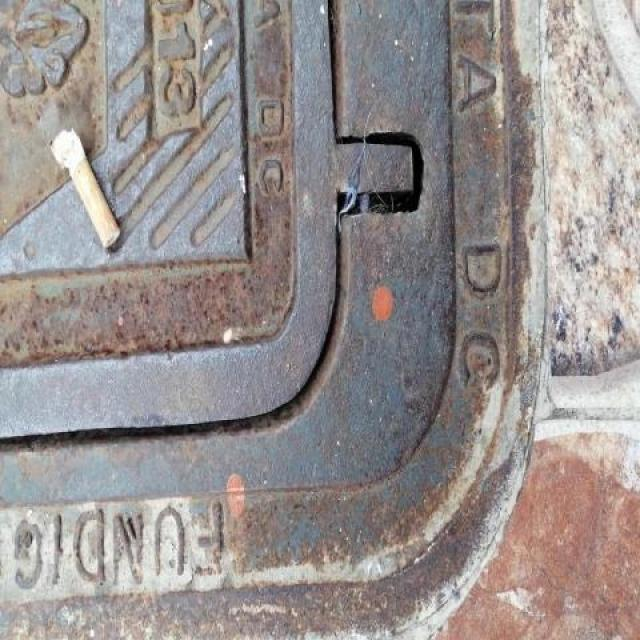non-organic waste: (47, 124, 124, 253)
